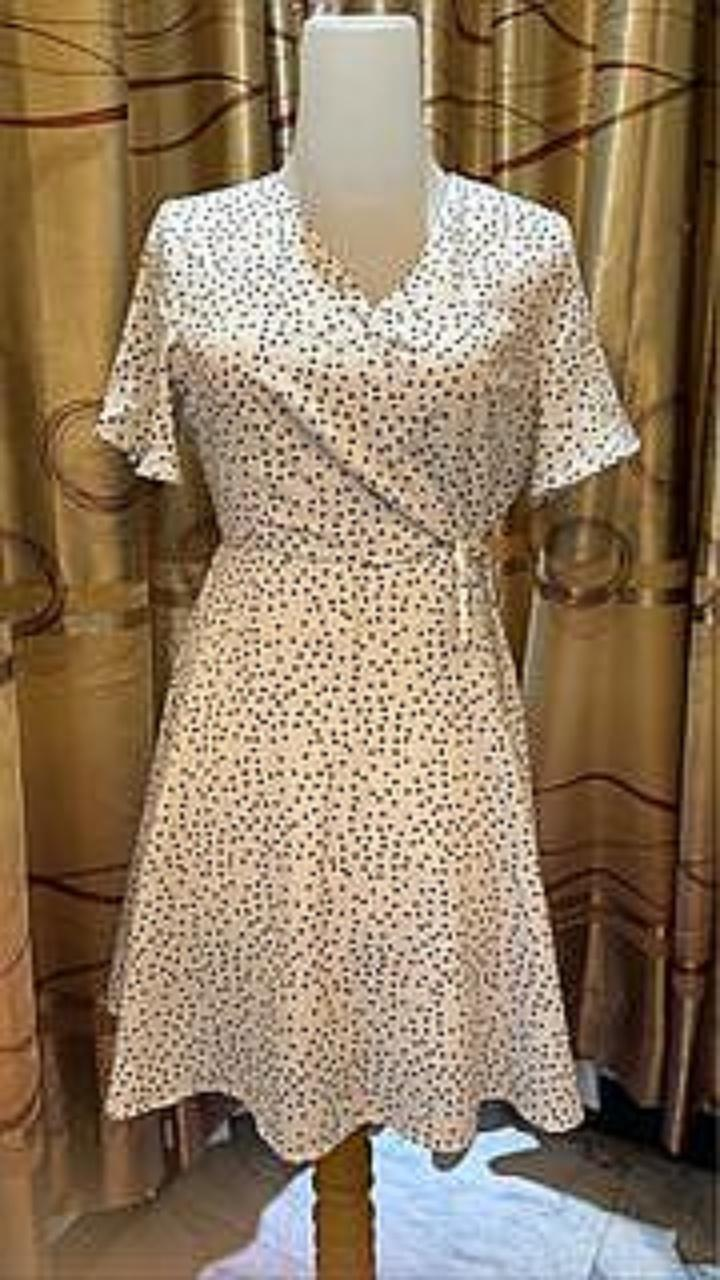Dresses: (95, 166, 639, 1159)
